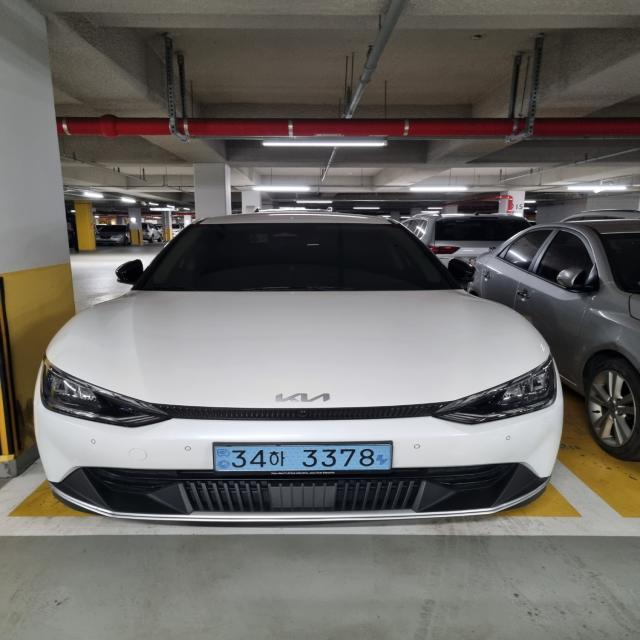car: (192, 435, 422, 486)
carev: (374, 442, 400, 482), (209, 442, 232, 480)
